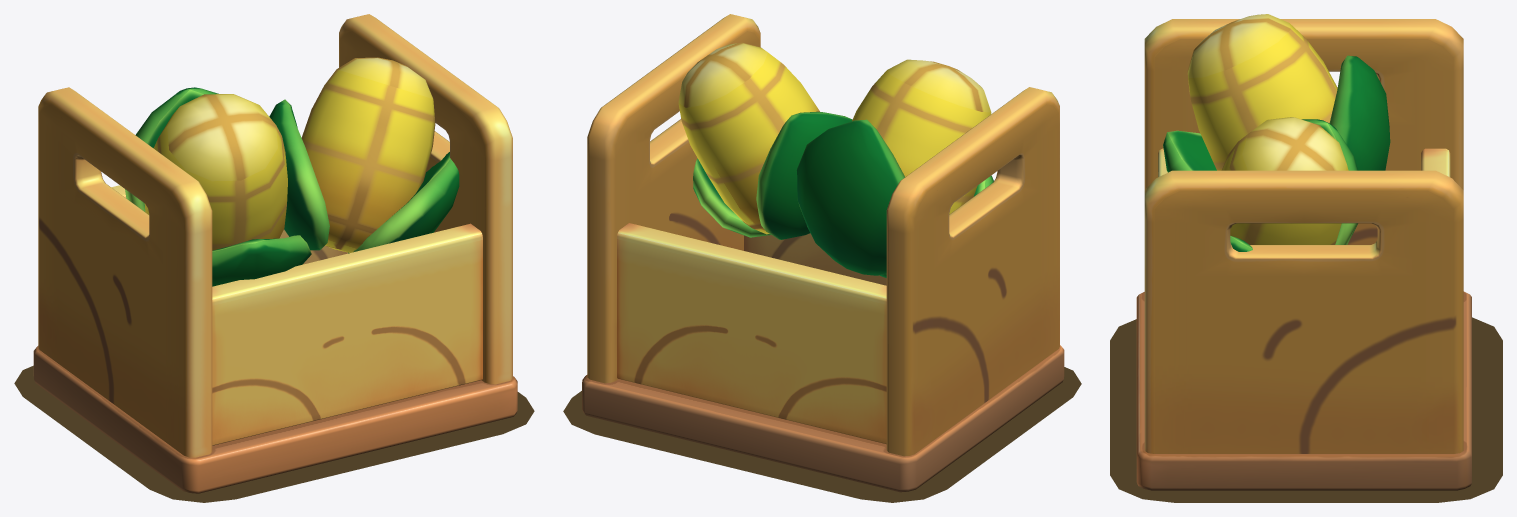
The model's file is Corn_L03.fbx.
3 renders of one model, left to right at view 1: azimuth 30°, elevation 25°; view 2: azimuth 150°, elevation 25°; view 3: azimuth 270°, elevation 25°, orthographic. The views are drawn at different scales.
Visible parts, largest first — view 1: WT_CornL3_body, CornL03_body, WT_CornL3_SDW; view 2: WT_CornL3_body, CornL03_body, WT_CornL3_SDW; view 3: WT_CornL3_body, CornL03_body, WT_CornL3_SDW.
Part boxes in pixels (<box>): WT_CornL3_body: <box>33,14,517,493</box>; CornL03_body: <box>125,57,459,286</box>; WT_CornL3_SDW: <box>14,365,534,502</box>; WT_CornL3_body: <box>582,14,1064,492</box>; CornL03_body: <box>678,42,993,277</box>; WT_CornL3_SDW: <box>563,367,1081,502</box>; WT_CornL3_body: <box>1136,19,1471,490</box>; CornL03_body: <box>1163,14,1390,251</box>; WT_CornL3_SDW: <box>1110,317,1502,502</box>.
Size of the model in its own units: 102 by 86.62 by 88.98.
